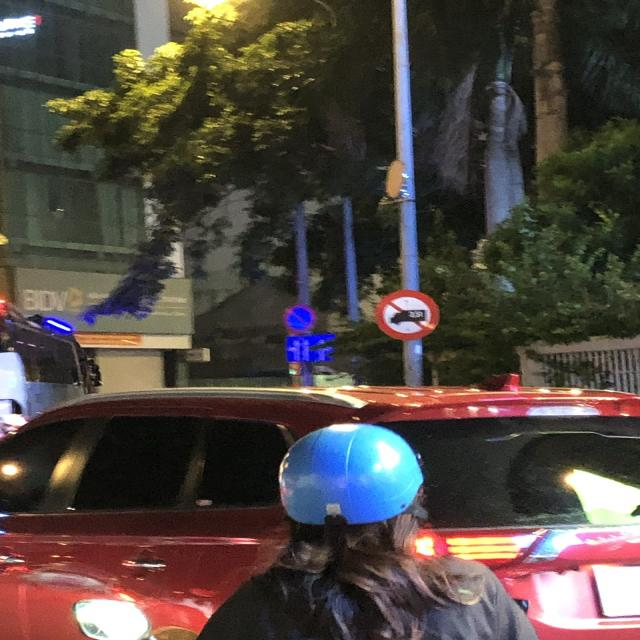Bien bao cam xe oto tai: (370, 286, 446, 344)
